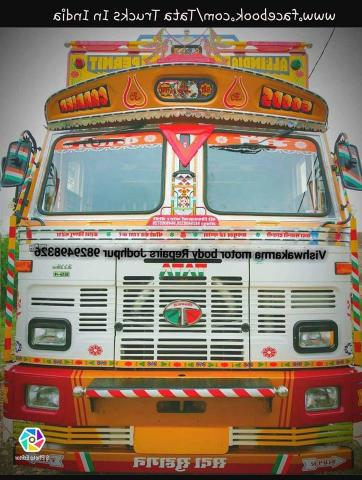truck: (0, 23, 362, 480)
